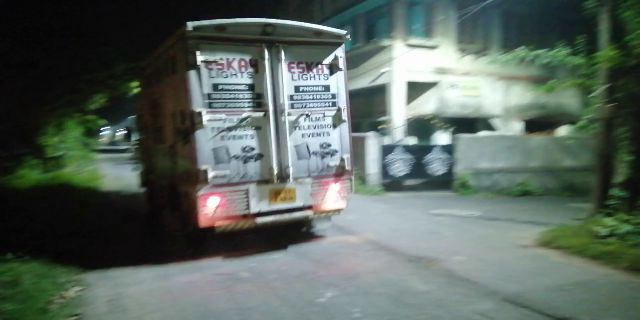Minitruck: (156, 18, 365, 245)
